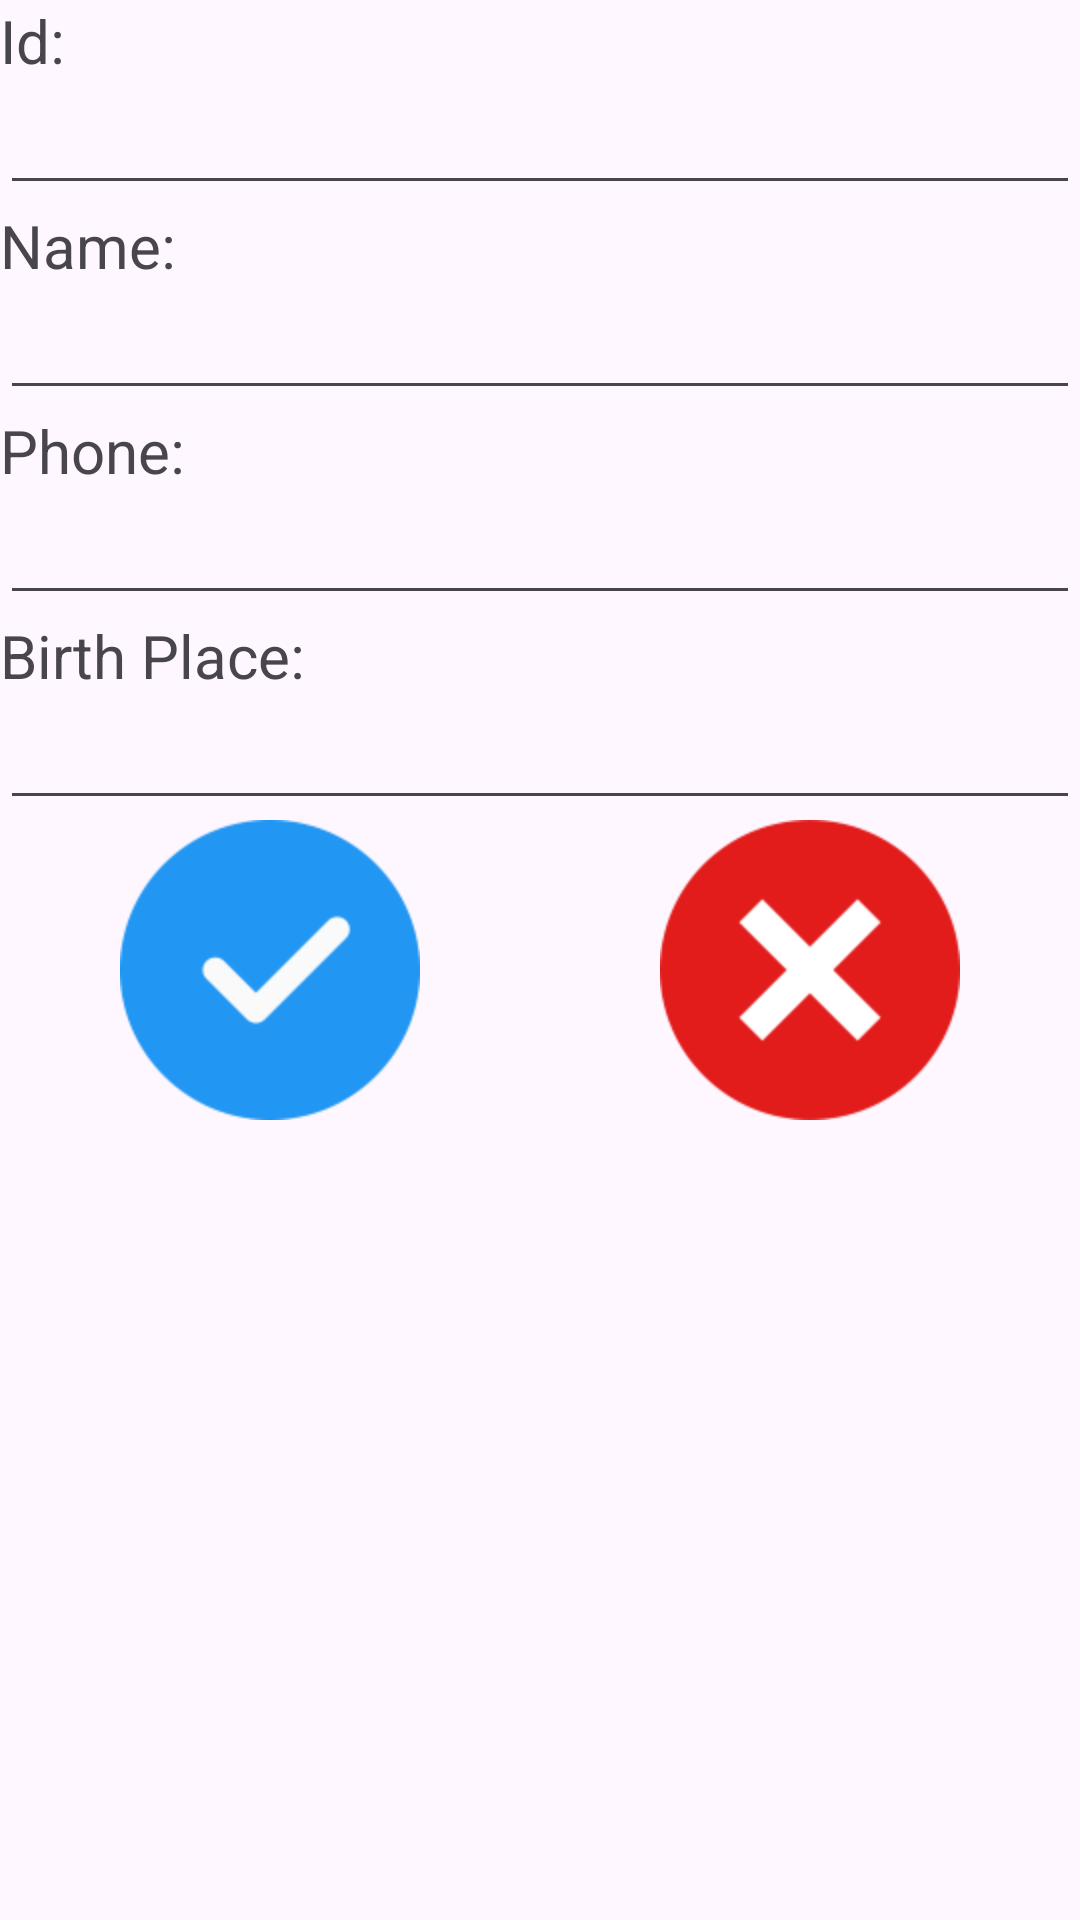

Named icons in this screenshot (1080x1920) and their centers, point (x, y):
cancel: point (810, 970)
yes: point (270, 970)
